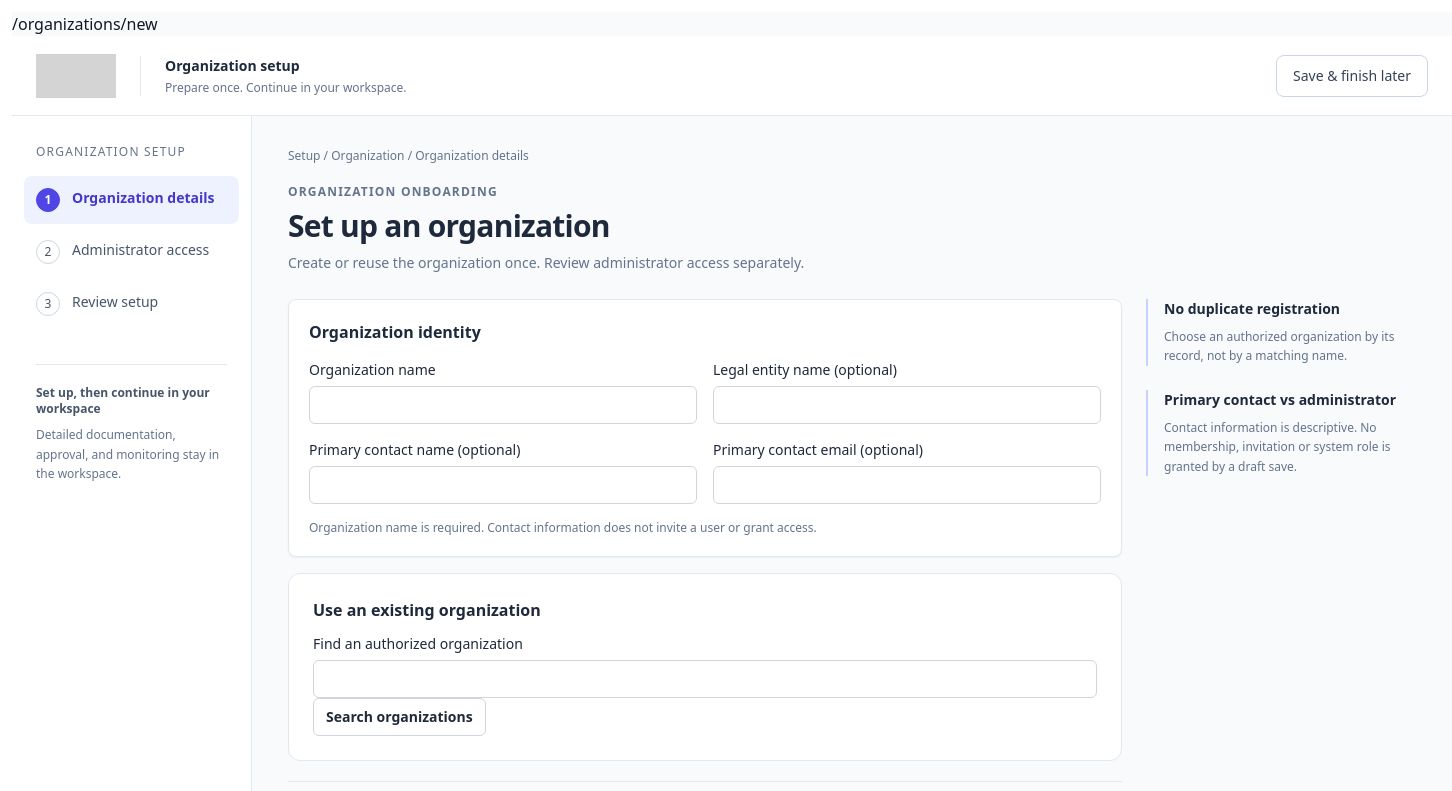
Scenario: CSP Add Organization approved flow › keeps partial edits and the stable draft URL when saving fails
In the field labelled "Organization name": (503, 405) [309,386,697,424], type "Preserve this name"
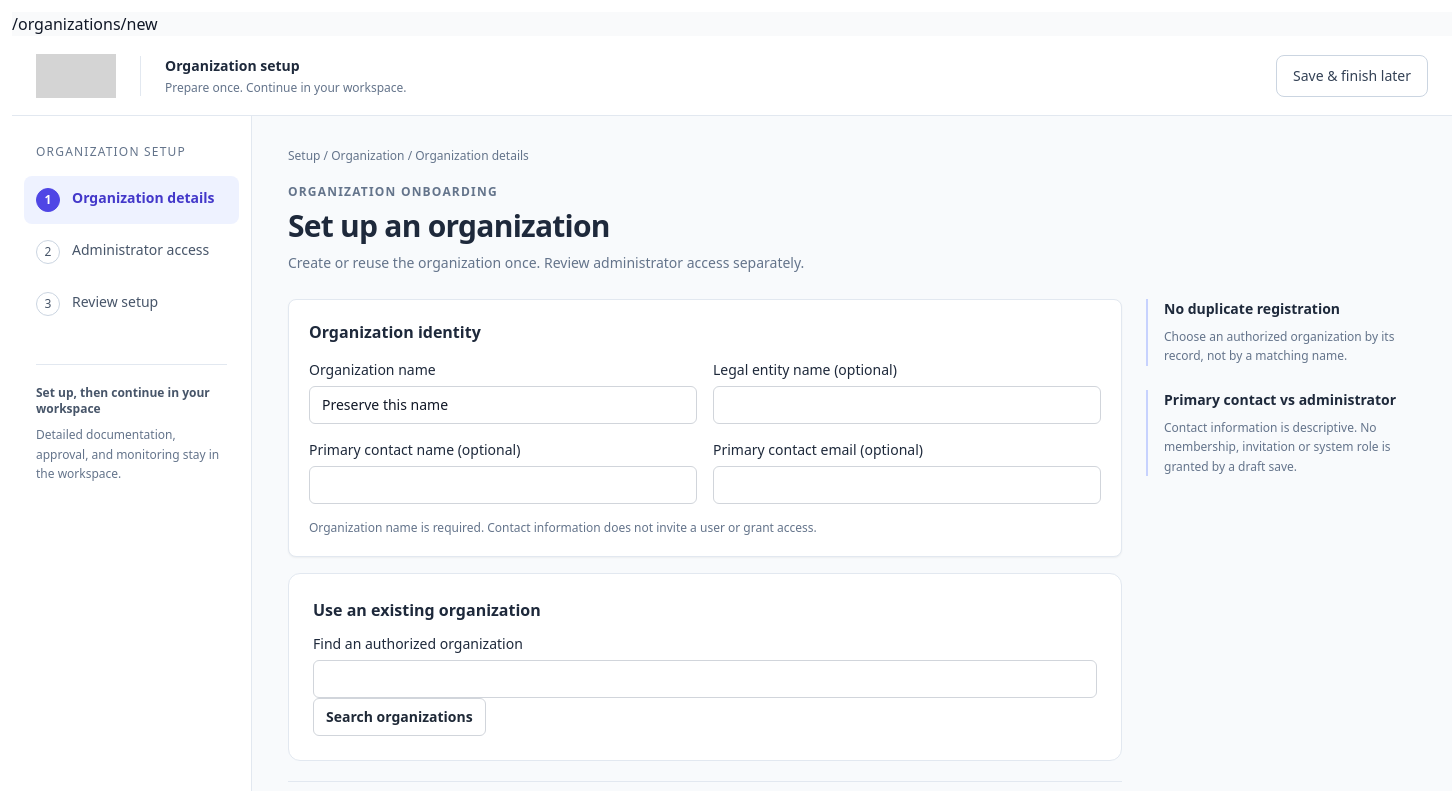
Click the button "Save & finish later": (1352, 76) [1276,54,1428,96]
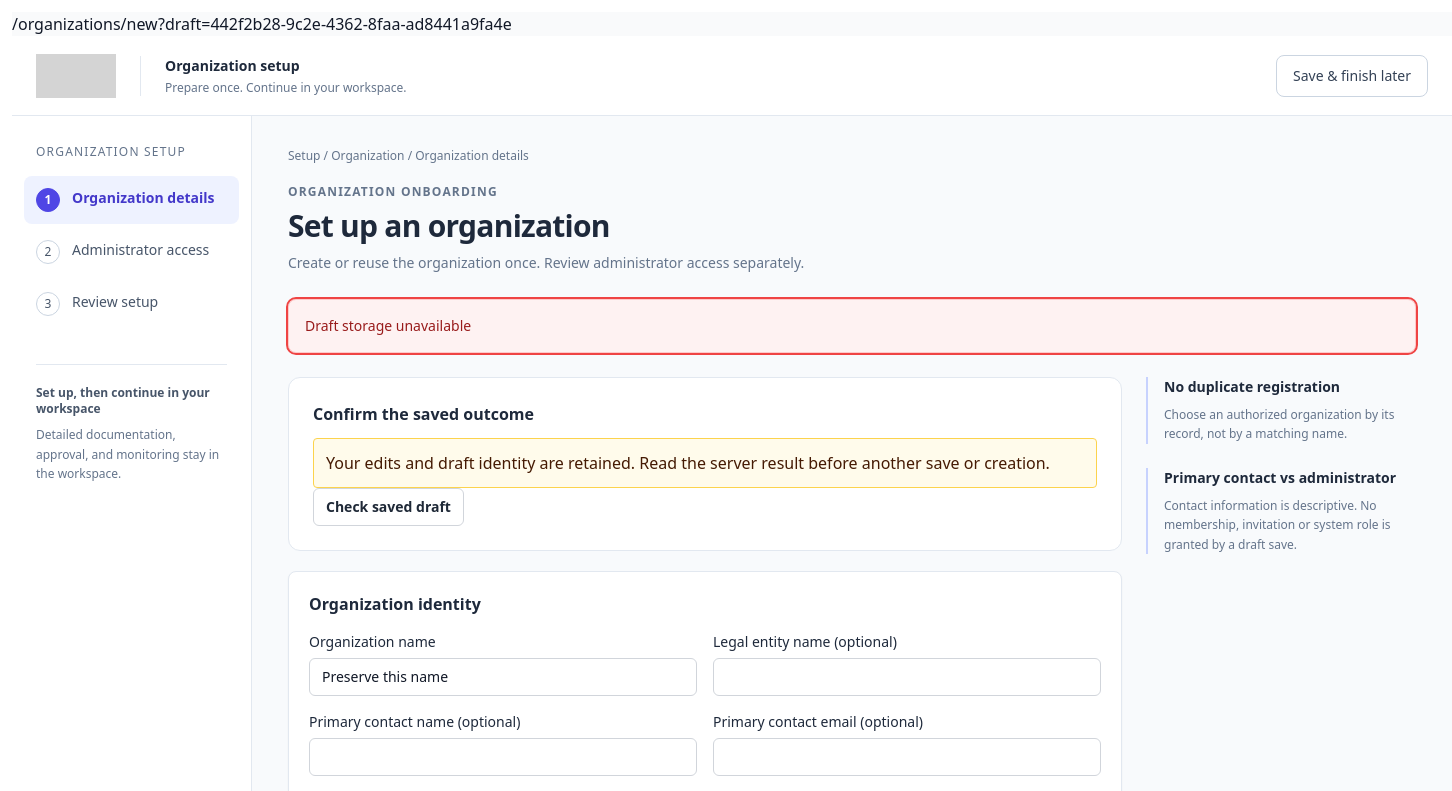
Expected: the text "Draft storage unavailable" is shown, [288,299,1416,353]
Expected: the text named "Route" shows "/organizations/new?draft=", [12,13,512,35]
